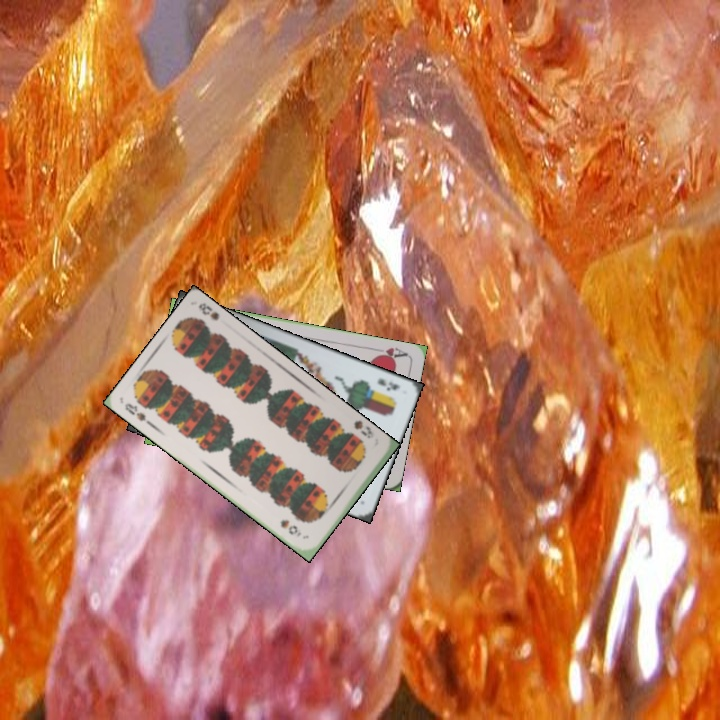EK: (373, 374, 403, 393)
HA: (369, 343, 409, 363)
S8: (121, 399, 156, 429), (350, 416, 376, 441)
